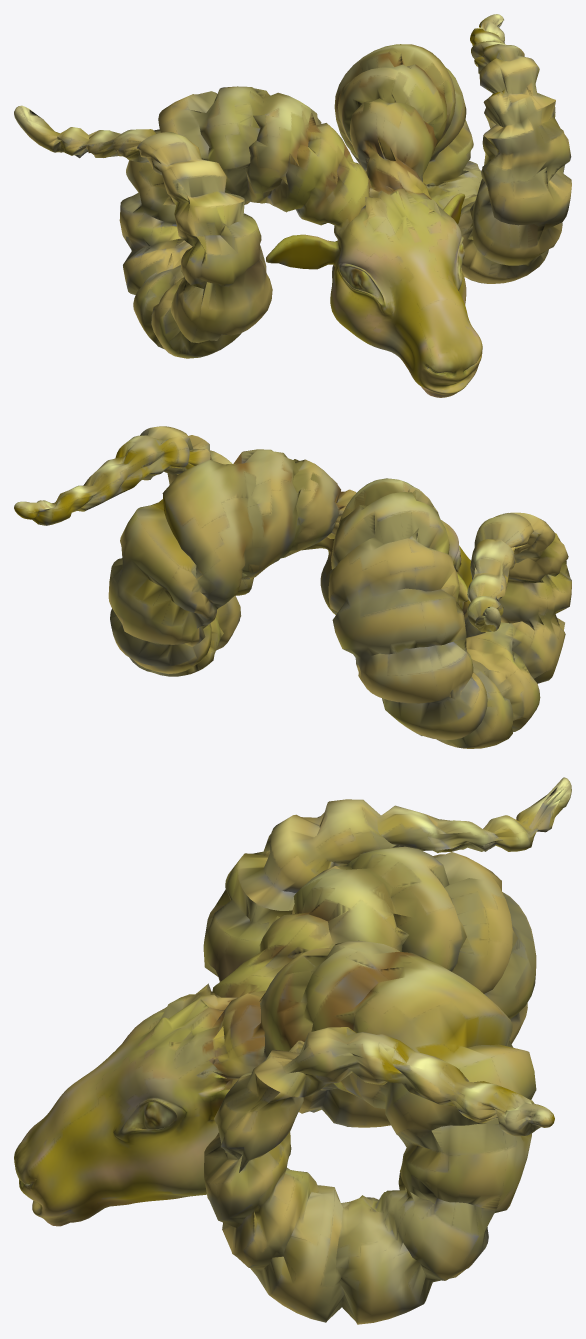
The model's file is baked object head golden fleece.fbx.
3 views of the same model, one above another, from view 1: azimuth 30°, elevation 25°; view 2: azimuth 150°, elevation 25°; view 3: azimuth 270°, elevation 25° (orthographic). The views are drawn at different scales.
Visible parts, largest first — view 1: final_; view 2: final_; view 3: final_.
Boxes of the visible parts, bbox=[...] form: final_: bbox=[14, 14, 571, 397]; final_: bbox=[14, 426, 571, 748]; final_: bbox=[14, 777, 571, 1324].
Bounding box in the file's own units: 19.22 × 8.95 × 14.25.
1 material, 1 textured.
